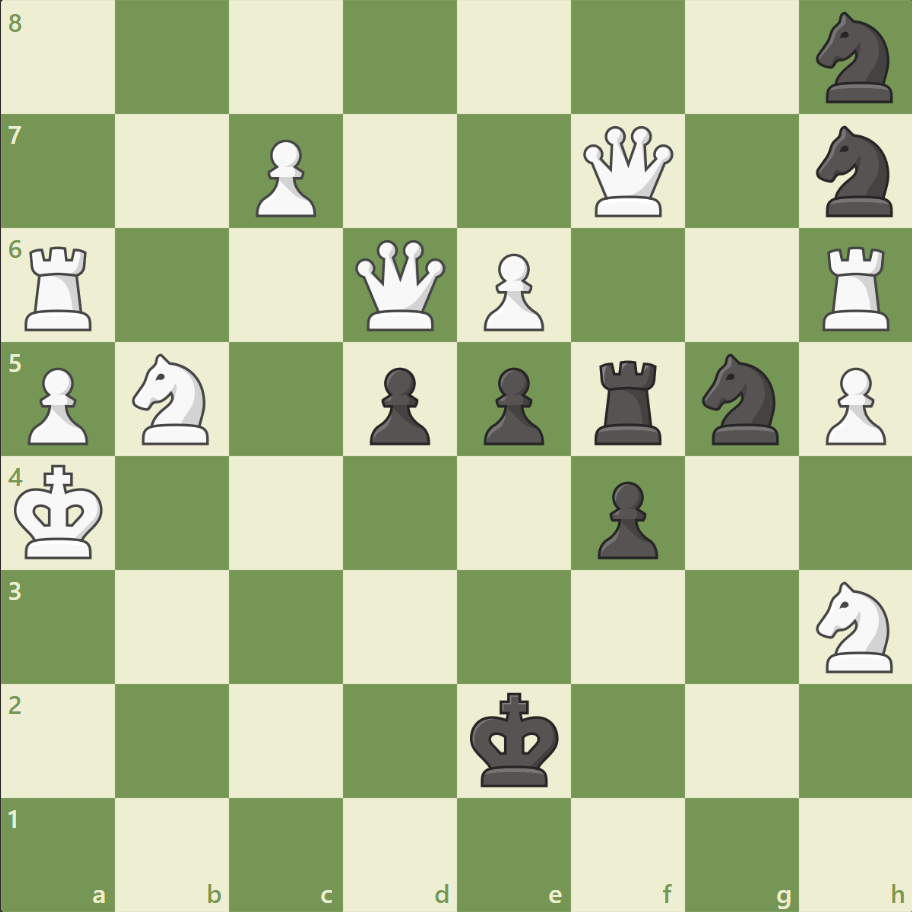K: (11, 458, 111, 566)
N: (124, 348, 222, 450), (806, 575, 903, 677)
P: (247, 132, 322, 223), (474, 246, 549, 337), (20, 359, 95, 450), (815, 359, 889, 450)
Q: (578, 122, 677, 222), (351, 236, 450, 335)
R: (19, 239, 102, 336), (814, 239, 897, 336)
k: (465, 685, 565, 793)
n: (806, 7, 903, 110), (806, 121, 903, 223), (692, 348, 789, 450)
p: (474, 359, 549, 450), (361, 359, 435, 450), (588, 473, 662, 564)
r: (587, 352, 670, 449)
